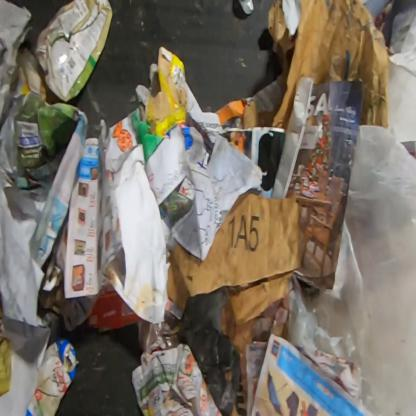cardboard: (166, 191, 302, 398), (242, 0, 398, 130), (32, 0, 114, 104), (135, 46, 188, 139), (25, 335, 80, 416), (10, 41, 60, 105), (86, 284, 143, 334), (214, 99, 247, 131)
soft_plastic: (287, 125, 415, 415), (136, 282, 255, 416)
